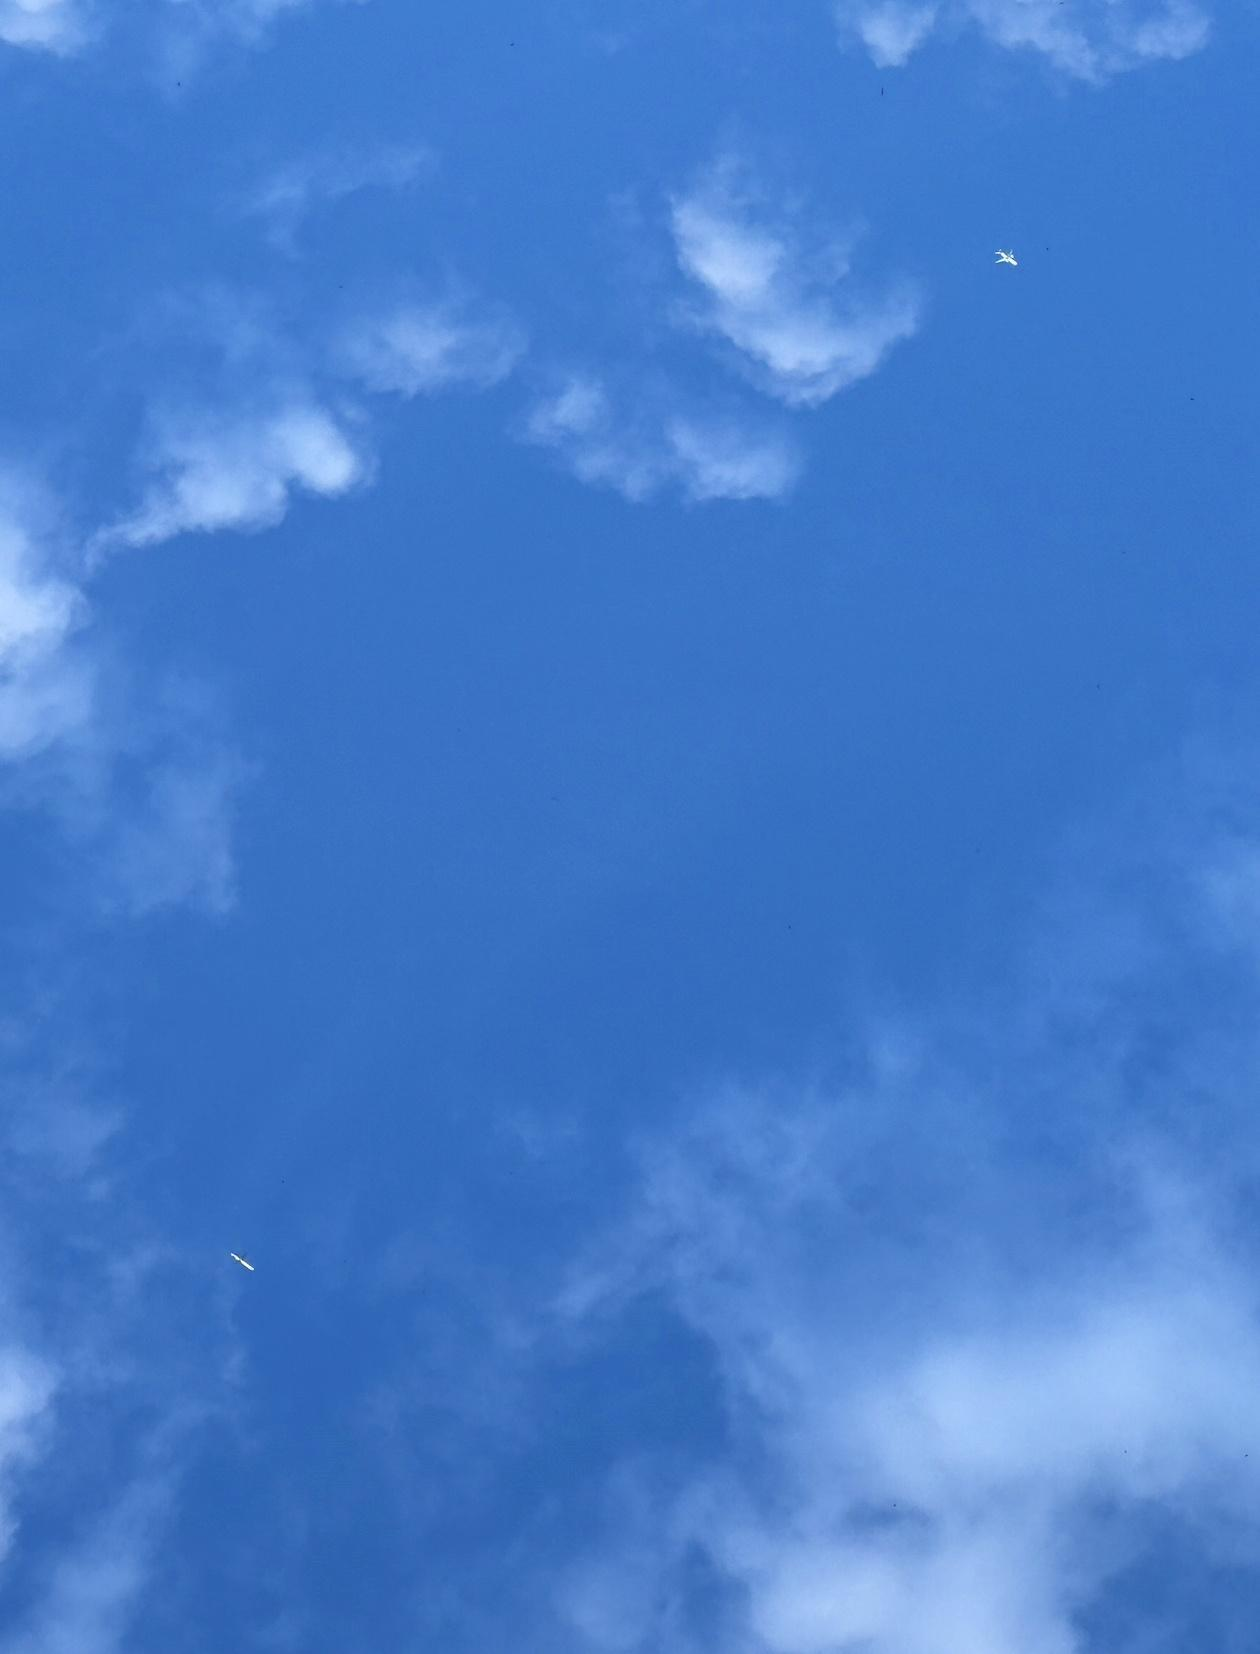Plane: (195, 1235, 279, 1291), (964, 232, 1047, 283)
